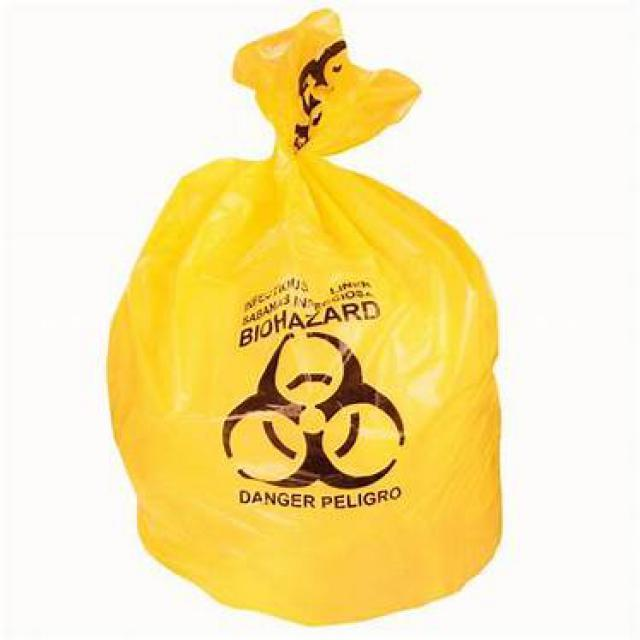waste: (115, 16, 507, 609)
